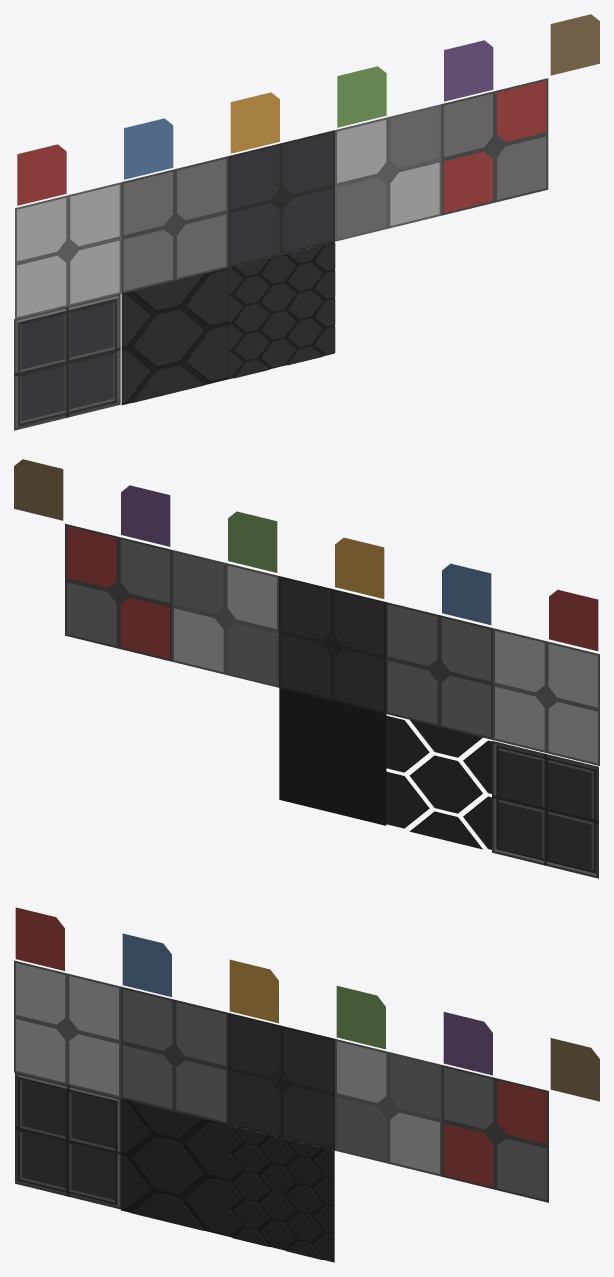
Rendered from floors.glb.
3 renders of one model, top to bottom at view 1: azimuth 30°, elevation 25°; view 2: azimuth 150°, elevation 25°; view 3: azimuth 330°, elevation 25°, orthographic.
Visible parts, largest first — view 1: FloorTileReinforced2, FloorTileReinforced, FloorTileGrey, FloorTileBar, FloorTileKitchen, FloorTileGreyDark, FloorTileWhite, FloorPlating, TileOverlayBrown, TileOverlayOrange, TileOverlayGreen, TileOverlayRed (+2 smaller); view 2: FloorTileReinforced2, FloorTileBar, FloorPlating, FloorTileGreyDark, FloorTileGrey, FloorTileWhite, FloorTileKitchen, FloorTileReinforced, TileOverlayBrown, TileOverlayRed, TileOverlayGreen, TileOverlayOrange (+2 smaller); view 3: FloorTileReinforced2, FloorTileReinforced, FloorTileWhite, FloorTileGreyDark, FloorTileKitchen, FloorTileBar, FloorTileGrey, FloorPlating, TileOverlayRed, TileOverlayBlue, TileOverlayOrange, TileOverlayPruple (+2 smaller).
Boxes of the visible parts, x1,y1,x2,y2 form: FloorTileReinforced2: (228,242,335,379); FloorTileReinforced: (121,268,228,405); FloorTileGrey: (121,156,228,293); FloorTileBar: (441,78,548,215); FloorTileKitchen: (335,104,441,241); FloorTileGreyDark: (228,130,334,267); FloorTileWhite: (15,182,121,319); FloorPlating: (14,294,120,430); TileOverlayBrown: (550,14,599,75); TileOverlayOrange: (230,92,279,153); TileOverlayGreen: (337,66,386,127); TileOverlayRed: (17,144,66,205); FloorTileReinforced2: (279,688,386,825); FloorTileBar: (65,523,171,661); FloorPlating: (492,741,598,878); FloorTileGreyDark: (279,576,385,713); FloorTileGrey: (386,602,492,739); FloorTileWhite: (493,628,599,765); FloorTileKitchen: (172,550,278,687); FloorTileReinforced: (386,715,491,849); TileOverlayBrown: (14,459,63,520); TileOverlayRed: (549,589,598,651); TileOverlayGreen: (228,511,277,572); TileOverlayOrange: (335,537,384,598); FloorTileReinforced2: (227,1124,334,1262); FloorTileReinforced: (120,1098,227,1236); FloorTileWhite: (14,960,120,1098); FloorTileGreyDark: (228,1012,334,1150); FloorTileKitchen: (335,1039,441,1176); FloorTileBar: (442,1065,548,1202); FloorTileGrey: (121,986,227,1124); FloorPlating: (15,1072,120,1209); TileOverlayRed: (15,907,64,970); TileOverlayBlue: (122,933,171,996); TileOverlayOrange: (229,959,278,1023); TileOverlayPruple: (443,1012,492,1075).
Size of the model in its own units: 5.48 by 2.48 by 0.0238.
1 material, 1 textured.
